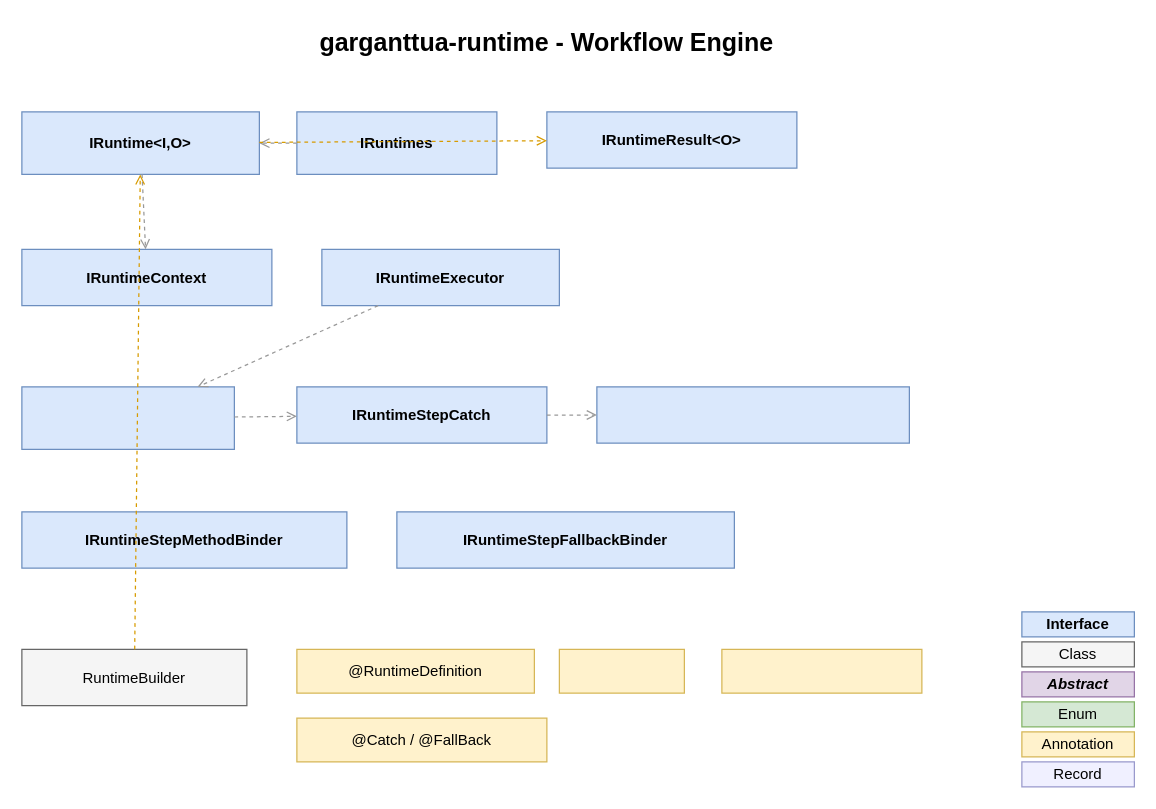
The diagram is 1156 pixels wide and 809 high, and some of its shapes have lost their labels. The shapes that lost their labels are listed below. From the top down, each one's centre as x and y in pixels, then its label:
(127,417): IRuntimeStep
(752,414): IRuntimeStepOnException
(621,670): @Step
(821,670): @Input / @Output
